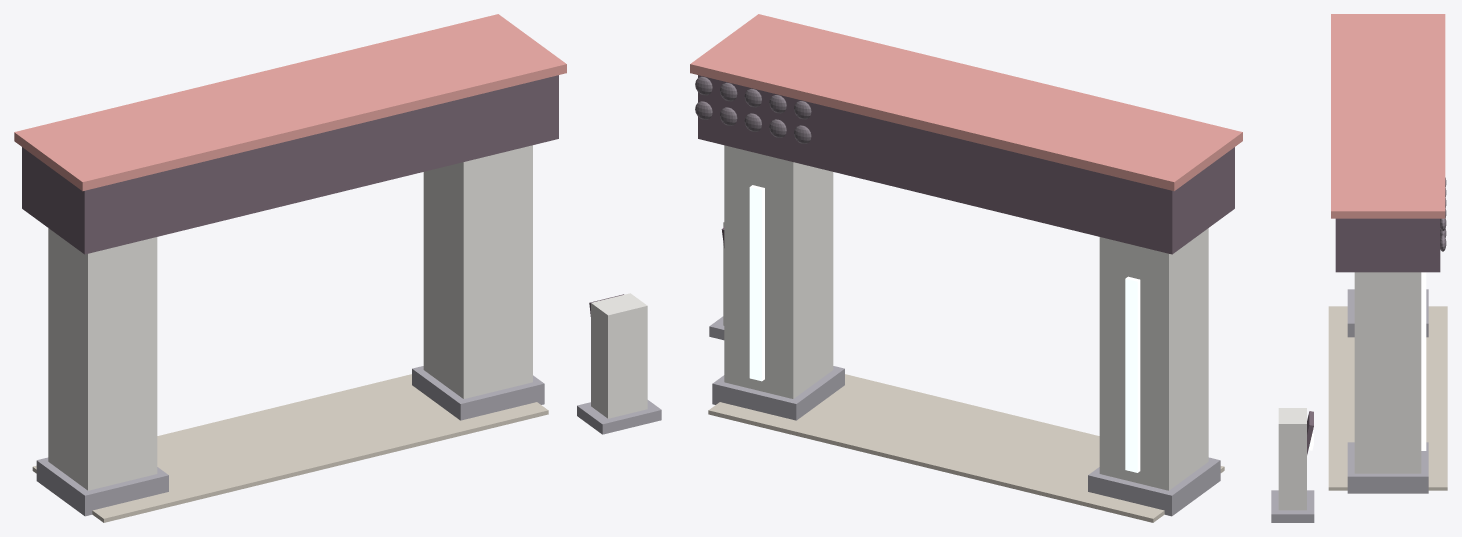
The model's file is EntranceGate.glb.
3 views of the same model, side by side, from view 1: azimuth 30°, elevation 25°; view 2: azimuth 150°, elevation 25°; view 3: azimuth 270°, elevation 25° (orthographic). The views are drawn at different scales.
Parts seen in each view (by area): view 1: EntranceGate_7, EntranceGate_6, EntranceGate_0, EntranceGate_5, EntranceGate_4; view 2: EntranceGate_7, EntranceGate_6, EntranceGate_0, EntranceGate_5, EntranceGate_4, EntranceGate_3, EntranceGate_2; view 3: EntranceGate_6, EntranceGate_7, EntranceGate_5, EntranceGate_0, EntranceGate_4, EntranceGate_3, EntranceGate_2.
Part boxes in pixels (x1=…): EntranceGate_7: x1=48, y1=145, x2=647, y2=490; EntranceGate_6: x1=14, y1=14, x2=566, y2=191; EntranceGate_0: x1=22, y1=75, x2=558, y2=254; EntranceGate_5: x1=32, y1=374, x2=548, y2=522; EntranceGate_4: x1=36, y1=366, x2=661, y2=516; EntranceGate_7: x1=723, y1=145, x2=1208, y2=490; EntranceGate_6: x1=690, y1=14, x2=1242, y2=191; EntranceGate_0: x1=698, y1=75, x2=1234, y2=254; EntranceGate_5: x1=708, y1=374, x2=1224, y2=522; EntranceGate_4: x1=709, y1=316, x2=1220, y2=516; EntranceGate_3: x1=749, y1=185, x2=1140, y2=472; EntranceGate_2: x1=695, y1=76, x2=811, y2=143; EntranceGate_6: x1=1331, y1=14, x2=1445, y2=218; EntranceGate_7: x1=1278, y1=272, x2=1421, y2=510; EntranceGate_5: x1=1328, y1=306, x2=1447, y2=490; EntranceGate_0: x1=1335, y1=218, x2=1440, y2=272; EntranceGate_4: x1=1271, y1=289, x2=1428, y2=522; EntranceGate_3: x1=1309, y1=272, x2=1426, y2=450; EntranceGate_2: x1=1440, y1=177, x2=1446, y2=251.
Size of the model in its own units: 22 by 13.33 by 7.4.
